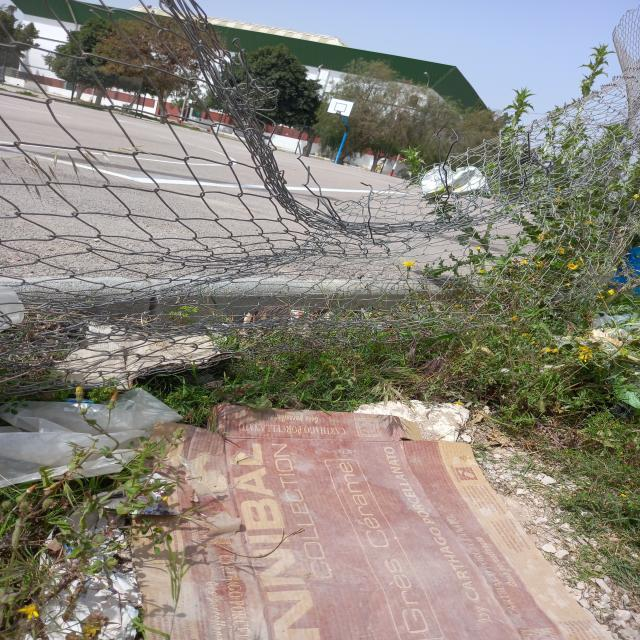fence line: (249, 27, 566, 230)
